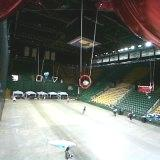Green_Balloon: (82, 80, 89, 86)
Orange_Circle_GShape: (79, 74, 92, 90)
Yellow_Square_GShape: (36, 75, 43, 82)
Yellow_Triangle_Gshape: (52, 77, 59, 83)
